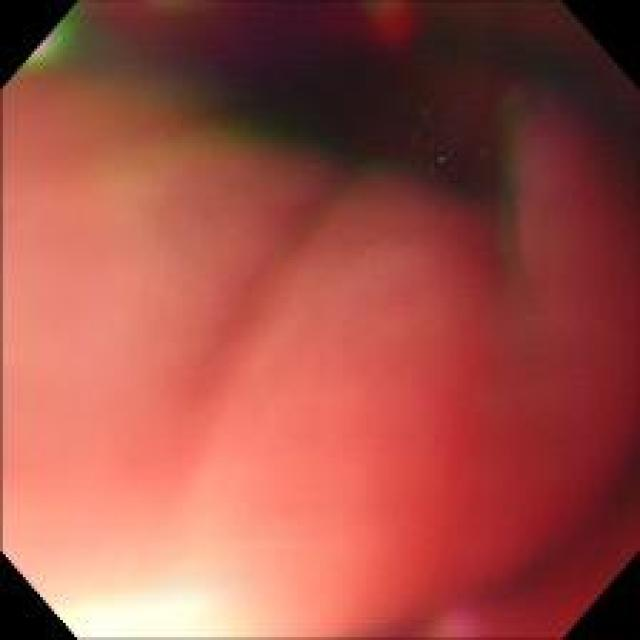blur: (2, 1, 638, 636)
color misalignment: (19, 12, 629, 218), (490, 89, 538, 245), (400, 99, 465, 192)
